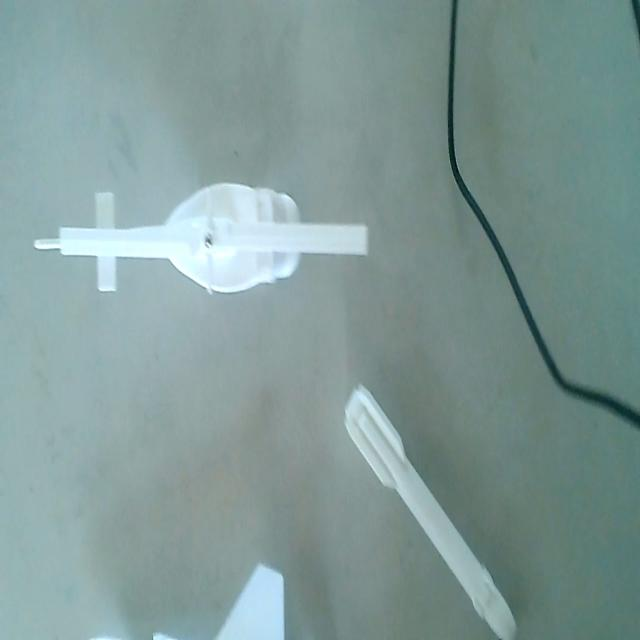Helicopter: (32, 190, 372, 300)
Rocket: (345, 377, 521, 640)
